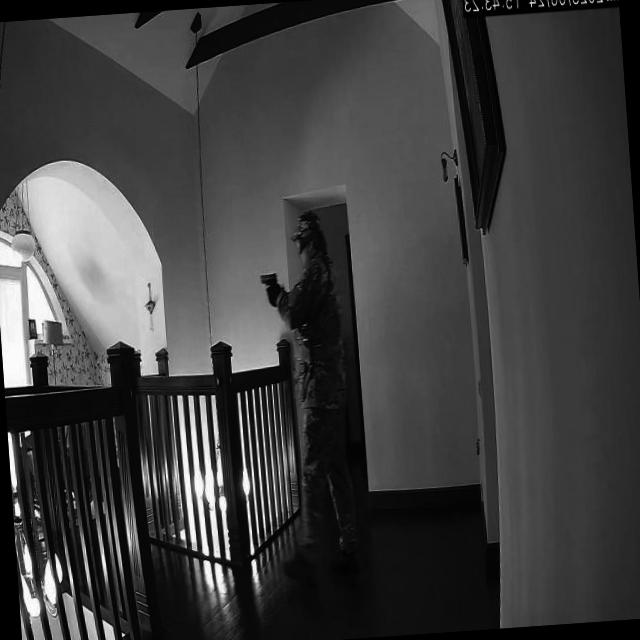gun: (258, 268, 278, 292)
person with a gun: (259, 209, 362, 592)
